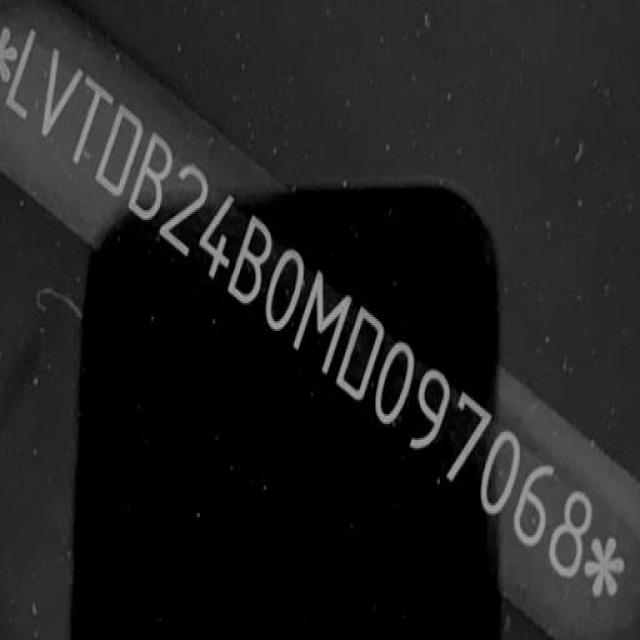0: (478, 426, 522, 516), (374, 340, 416, 424), (266, 246, 304, 331)
2: (158, 165, 209, 256)
4: (198, 193, 236, 278)
6: (511, 462, 557, 547)
7: (446, 392, 494, 483)
8: (550, 488, 592, 576)
9: (410, 369, 450, 452)
B: (225, 215, 271, 304), (130, 132, 172, 223)
D: (93, 104, 145, 198), (337, 304, 384, 399)
L: (4, 29, 40, 119)
M: (294, 271, 352, 375)
T: (72, 72, 116, 165)
V: (41, 44, 85, 137)
